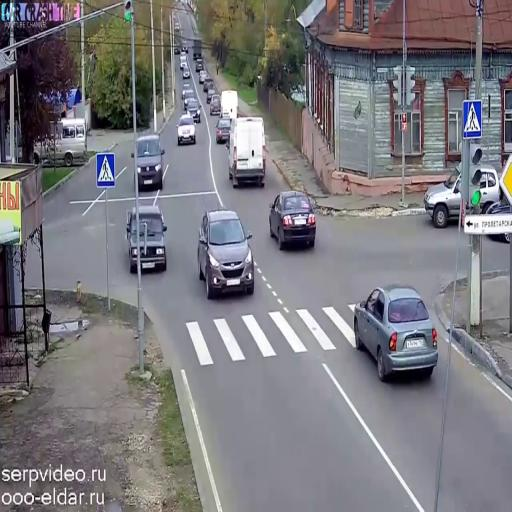小汽车: (354, 288, 436, 386), (196, 207, 254, 296), (424, 166, 501, 228), (270, 190, 314, 251), (126, 208, 168, 271), (229, 117, 264, 191), (35, 117, 90, 163), (134, 135, 168, 190), (175, 113, 198, 146), (215, 112, 230, 144), (190, 35, 204, 60), (183, 88, 198, 110), (203, 75, 215, 94), (179, 53, 188, 71)
